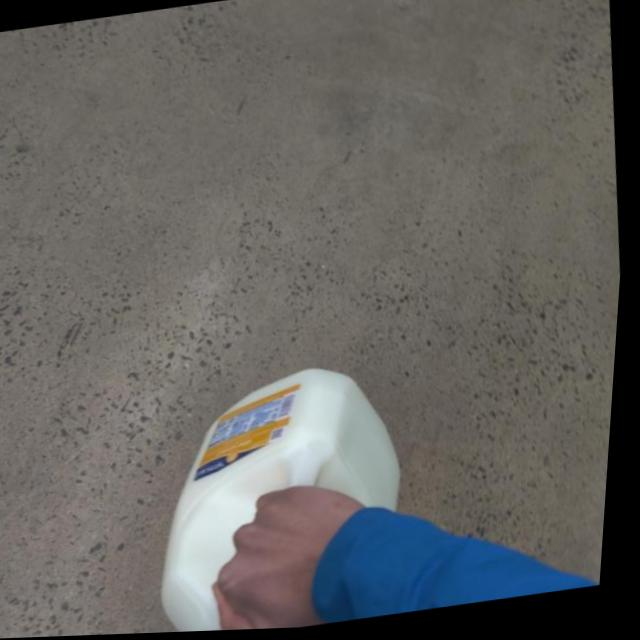Milk: (136, 337, 452, 635)
